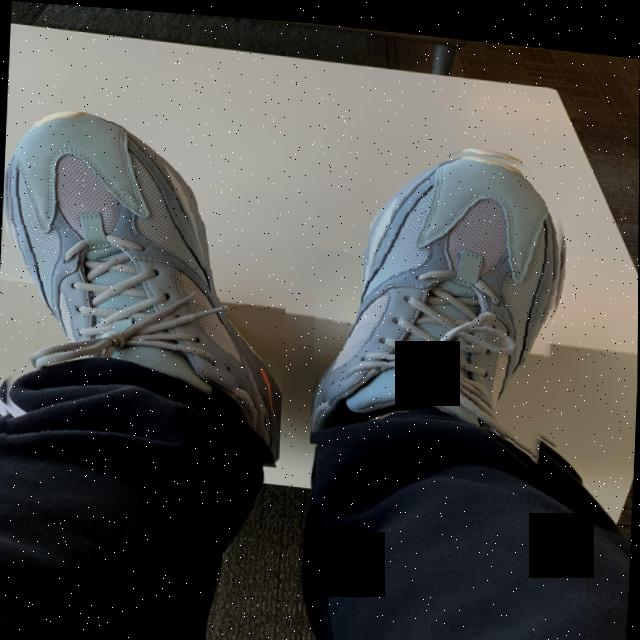shoe: (0, 100, 292, 468), (310, 123, 571, 461)
